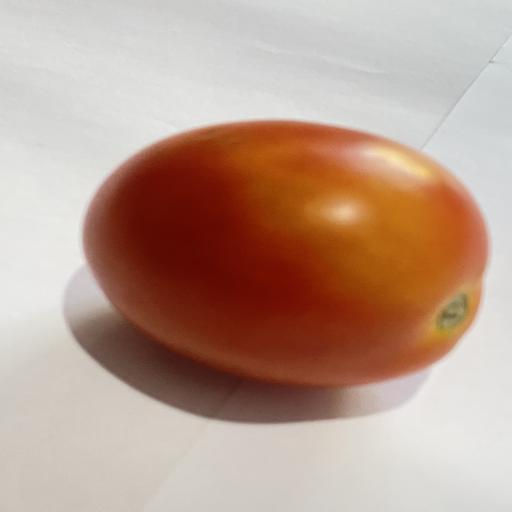ripe: (84, 121, 488, 387)
